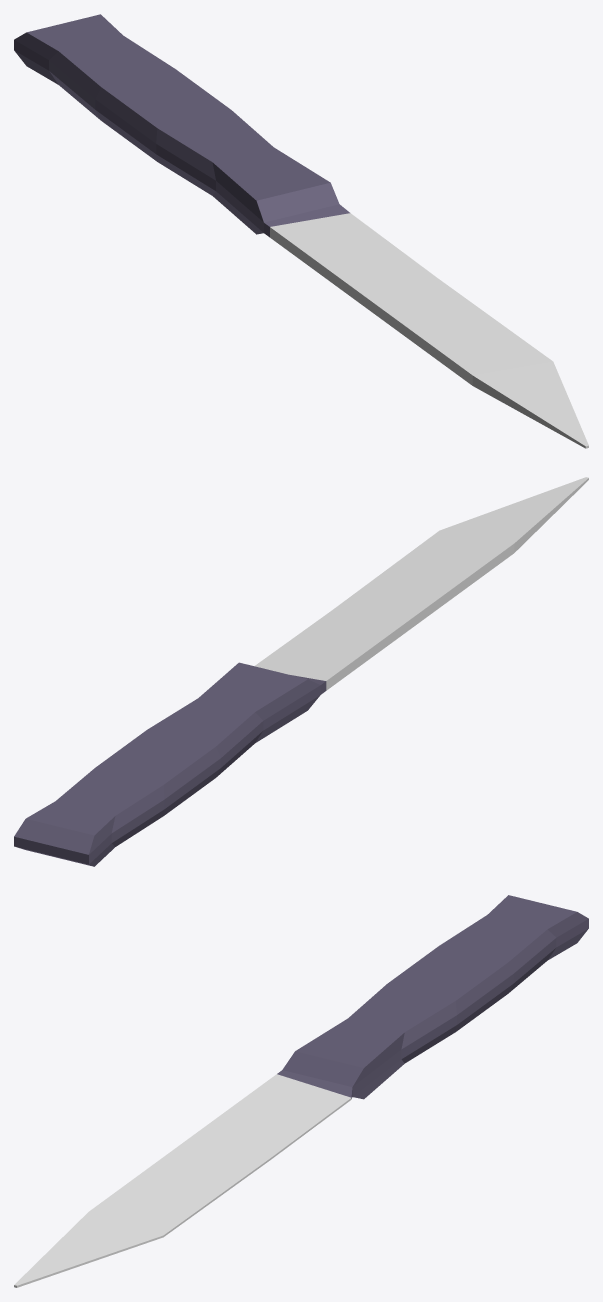
The model's file is Knife.fbx.
3 renders of one model, top to bottom at view 1: azimuth 30°, elevation 25°; view 2: azimuth 150°, elevation 25°; view 3: azimuth 330°, elevation 25°, orthographic. The views are drawn at different scales.
Visible parts, largest first — view 1: Cube; view 2: Cube; view 3: Cube.
Part boxes in pixels (<box>): Cube: <box>14,14,588,448</box>; Cube: <box>14,477,588,866</box>; Cube: <box>14,895,588,1287</box>.
Size of the model in its own units: 18.36 by 7.35 by 219.
